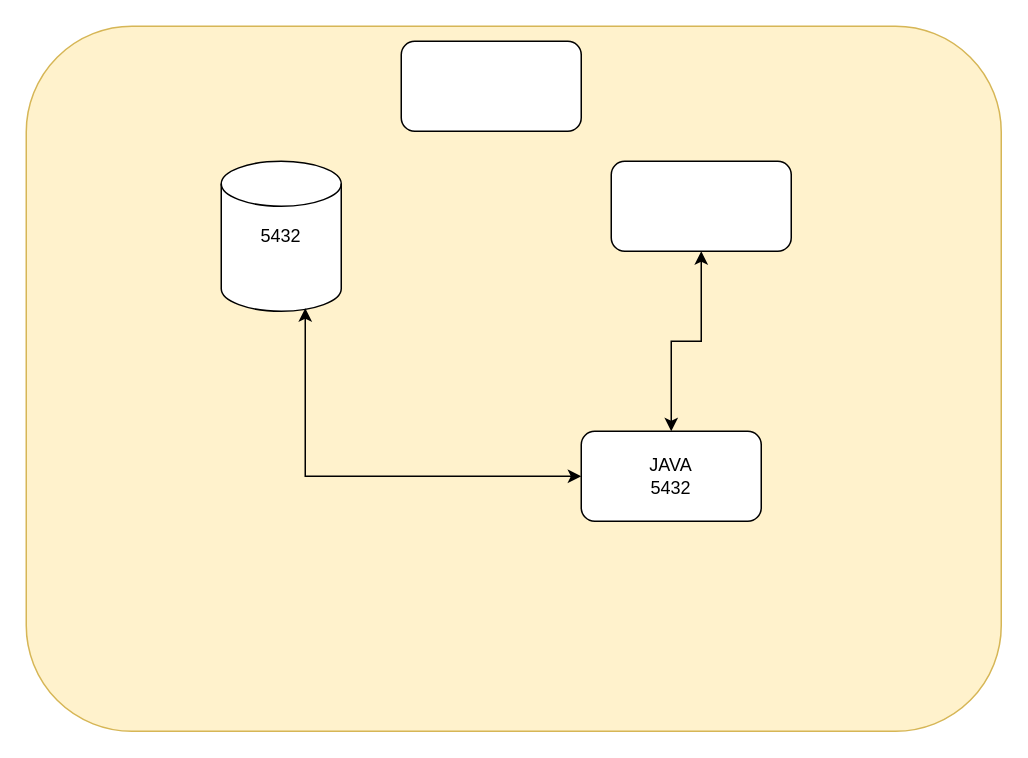
This 1028x758 diagram has some shape labels left out. Here are the shapes that lost their labels. From the top down, the box of each, then its label:
(400, 40, 581, 131): tomcat 8080
(610, 160, 791, 251): RMI 1234
